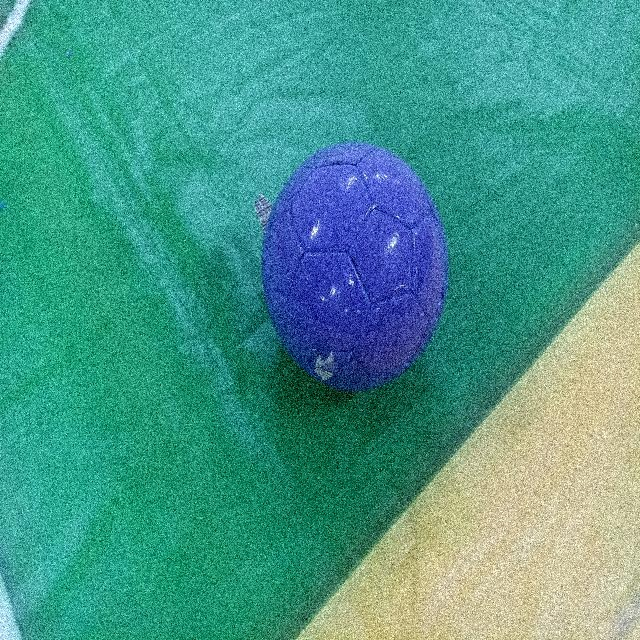purple_ball: (265, 150, 441, 384)
